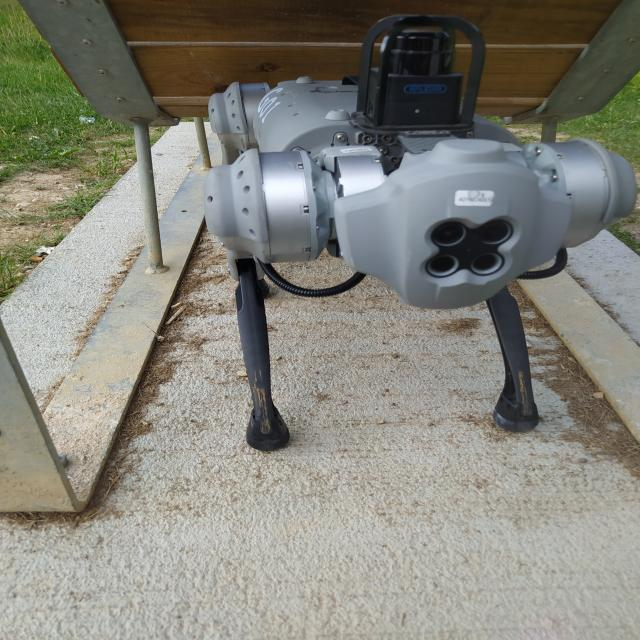unitree-go1-robot: (204, 14, 638, 470)
